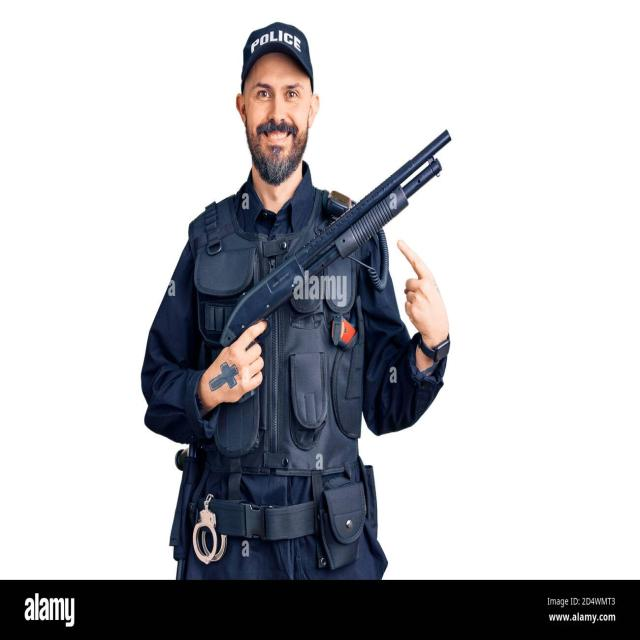ShotGun: (218, 132, 451, 345)
